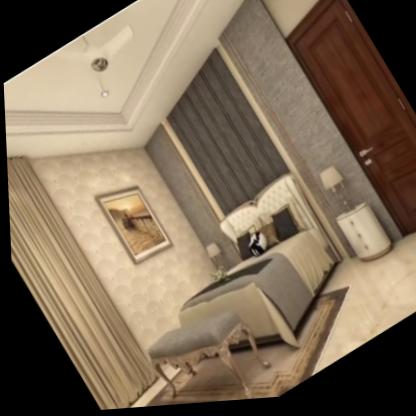Bed: (131, 168, 363, 394)
Frame: (88, 170, 178, 275)
Lamp: (309, 159, 359, 221)
Nightstand: (327, 194, 398, 278)
